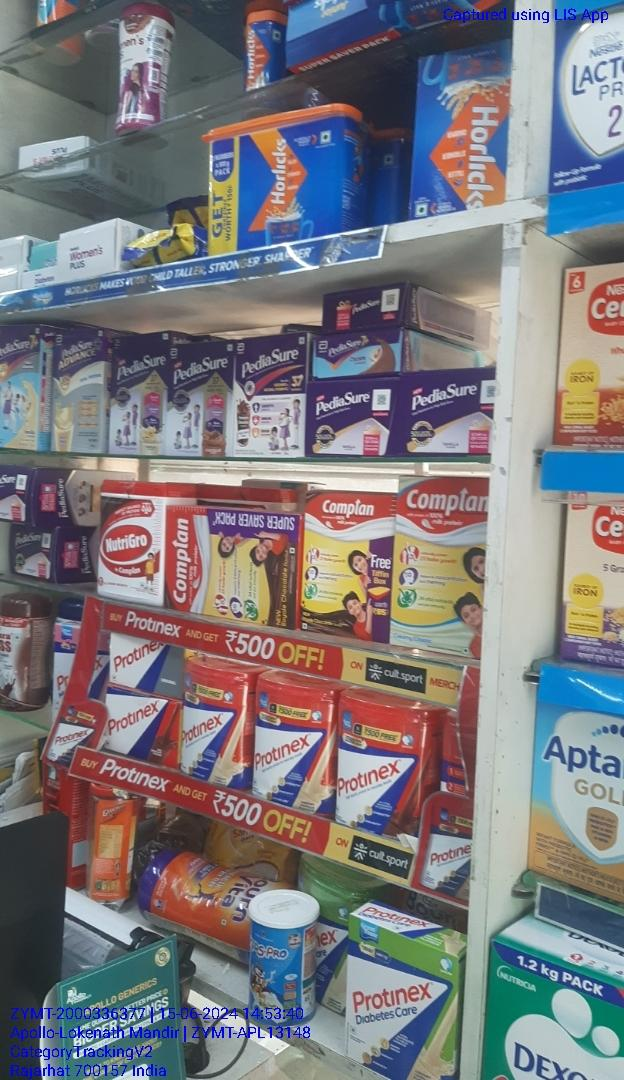COMPLAN_CHOCOLATE_500_GMS_PACK: (301, 488, 393, 644)
COMPLAN_CREAMY_CLASSIC_500_G_PACK: (398, 479, 486, 663)
HORLICK_MALT_1_KG_CONTAINER: (205, 107, 353, 243)
PEDIASURE_CHOCOLATE_500_G_PACK: (170, 342, 233, 459)
PEDIASURE_VANILLA_500_G_PACK: (109, 334, 167, 454)
